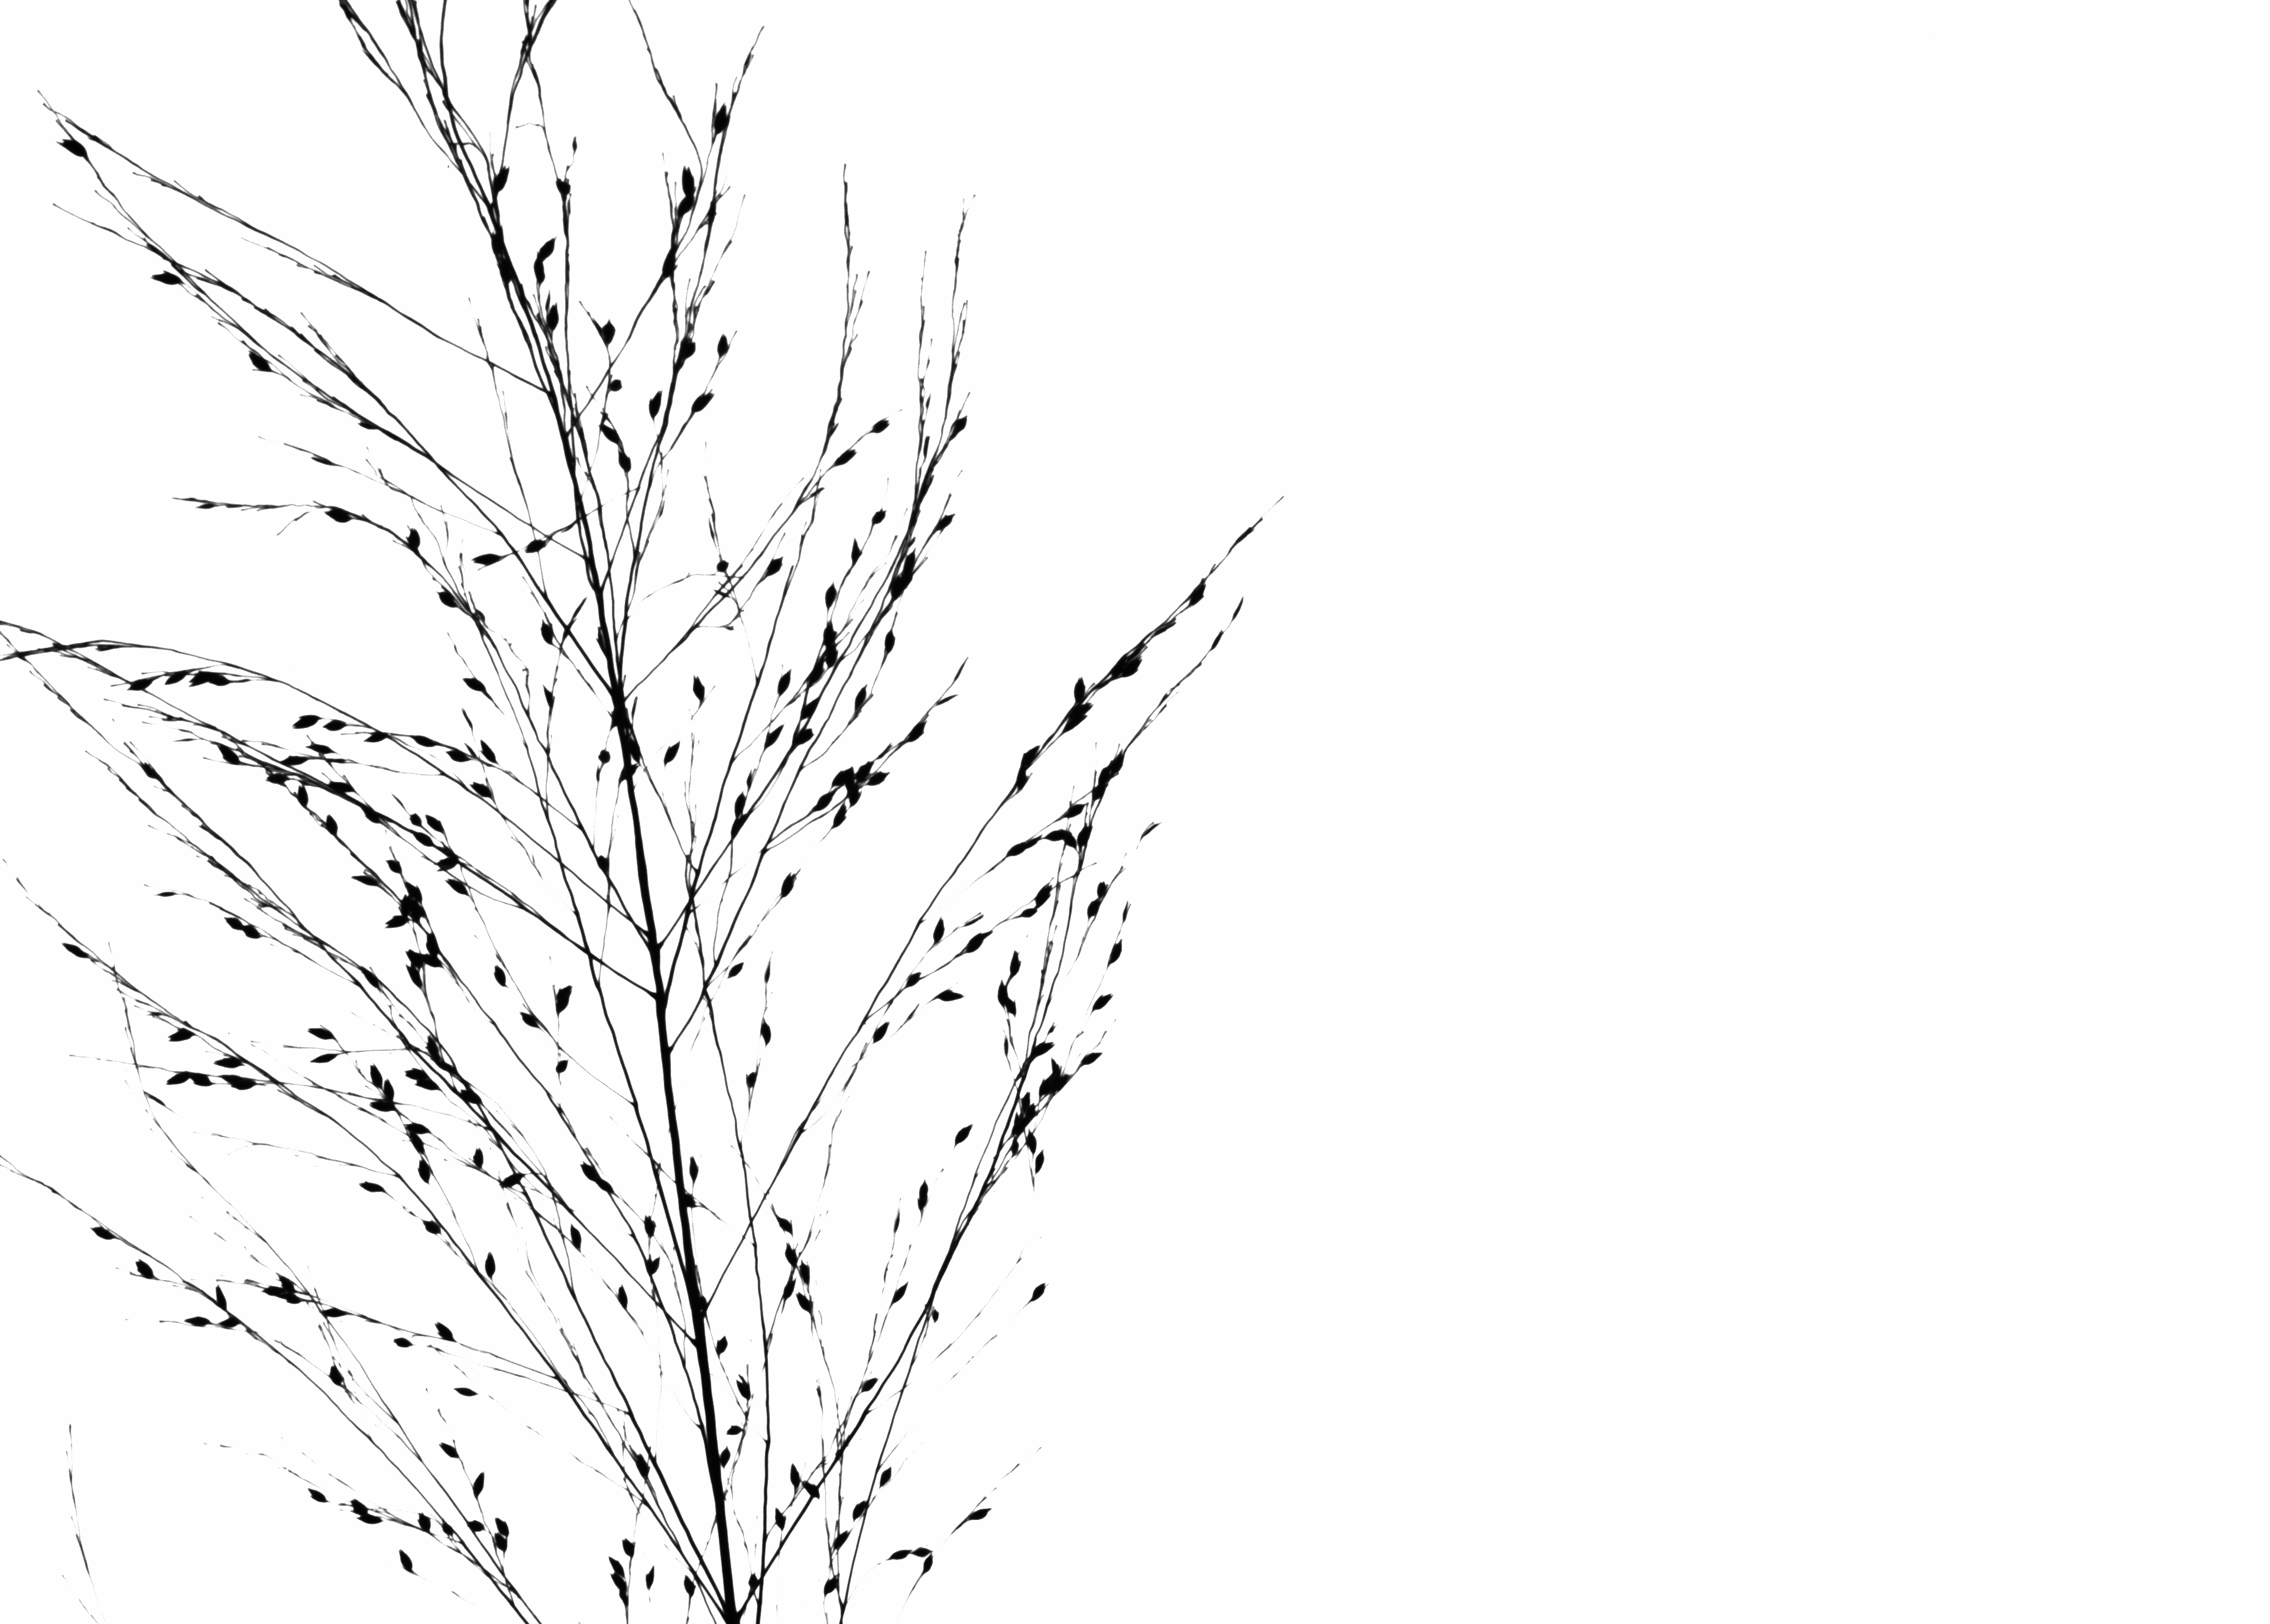seed: (962, 926, 999, 961), (1064, 698, 1094, 736), (218, 1070, 264, 1095), (1025, 1274, 1055, 1311), (550, 981, 577, 1021), (320, 503, 359, 529), (1008, 833, 1046, 859), (215, 738, 246, 770), (1025, 1035, 1057, 1067), (949, 1116, 979, 1149), (1088, 990, 1124, 1018), (244, 346, 276, 376), (55, 135, 90, 162), (390, 1545, 418, 1577), (186, 664, 222, 689), (935, 984, 971, 1009), (679, 162, 700, 202), (408, 947, 445, 970), (710, 100, 733, 137), (633, 1445, 656, 1482), (902, 717, 932, 745), (962, 1501, 993, 1527), (148, 267, 186, 288), (564, 1218, 586, 1257), (730, 808, 753, 844), (1113, 656, 1148, 678), (608, 1568, 631, 1603), (130, 1257, 158, 1285), (603, 1550, 629, 1580), (677, 188, 702, 220), (60, 940, 97, 961), (466, 1468, 491, 1499), (888, 1276, 913, 1308), (288, 708, 322, 731), (86, 1220, 120, 1243), (1110, 745, 1129, 784), (424, 810, 450, 838), (691, 387, 717, 415), (798, 692, 825, 721), (304, 1023, 339, 1044), (1074, 821, 1095, 856), (320, 1299, 355, 1320), (832, 759, 856, 789), (498, 1169, 527, 1193), (848, 1494, 872, 1524), (399, 895, 422, 926), (408, 729, 440, 752), (461, 673, 492, 696), (278, 1269, 301, 1301), (471, 548, 508, 568), (821, 576, 840, 613), (1106, 935, 1125, 972), (786, 1459, 805, 1496), (902, 547, 920, 587), (280, 749, 313, 770), (1189, 576, 1210, 610), (1034, 879, 1055, 912), (434, 589, 461, 615), (812, 787, 839, 814), (359, 801, 383, 830), (443, 875, 471, 900), (359, 963, 383, 991), (433, 1315, 457, 1343), (403, 522, 426, 552), (763, 554, 786, 584), (610, 696, 629, 731), (492, 165, 512, 200), (426, 1032, 445, 1067), (1008, 944, 1027, 979), (262, 1287, 297, 1306), (327, 1353, 345, 1392), (640, 1561, 659, 1596), (484, 1248, 501, 1285), (781, 1237, 798, 1274), (821, 1568, 839, 1605), (853, 682, 872, 715), (355, 1178, 389, 1197), (406, 893, 429, 921), (364, 724, 392, 747), (190, 1069, 218, 1091), (218, 1311, 246, 1334), (164, 668, 193, 689), (805, 661, 826, 691), (415, 1156, 436, 1186), (870, 1016, 891, 1046), (779, 872, 800, 902), (710, 1327, 731, 1357), (932, 912, 949, 947), (325, 777, 357, 796), (324, 808, 343, 840), (547, 297, 563, 336), (367, 1097, 399, 1116), (492, 1529, 512, 1561), (401, 879, 426, 903), (418, 1216, 445, 1239), (774, 1213, 800, 1236), (135, 759, 164, 780), (445, 743, 473, 765), (478, 735, 499, 763), (596, 424, 624, 445), (765, 722, 786, 750), (663, 738, 684, 766), (457, 1084, 485, 1106), (165, 1067, 193, 1088), (406, 1128, 427, 1156), (1078, 1049, 1106, 1070), (740, 1065, 761, 1093), (619, 1531, 640, 1559), (540, 680, 557, 714), (403, 1118, 436, 1135), (760, 954, 777, 988), (684, 1151, 703, 1181), (183, 1309, 213, 1329), (733, 1373, 753, 1403), (779, 1274, 798, 1304), (619, 761, 644, 784), (835, 445, 858, 469), (948, 415, 971, 439), (594, 1176, 619, 1199), (577, 1160, 601, 1183), (724, 958, 747, 982), (436, 1438, 461, 1461), (858, 1373, 883, 1396), (306, 738, 338, 756), (294, 779, 311, 810), (350, 872, 382, 889), (404, 963, 426, 990), (540, 617, 557, 649), (540, 236, 561, 262), (647, 390, 665, 422), (932, 513, 958, 534), (691, 671, 707, 707), (883, 624, 899, 659), (241, 921, 267, 942), (491, 961, 508, 993), (1020, 742, 1041, 768), (1073, 673, 1088, 708), (904, 967, 925, 993), (758, 1016, 775, 1048), (888, 1204, 904, 1239), (802, 1478, 823, 1504), (830, 1526, 851, 1552), (459, 707, 478, 735), (422, 930, 441, 958), (775, 670, 795, 698), (865, 770, 893, 789), (304, 1487, 332, 1506), (308, 1051, 341, 1067), (1032, 1148, 1048, 1181), (308, 453, 338, 471), (626, 735, 644, 765), (714, 332, 731, 362), (830, 801, 848, 831), (953, 654, 971, 684), (1094, 773, 1111, 803), (614, 1281, 631, 1311), (222, 912, 244, 935), (469, 779, 494, 800), (793, 726, 818, 747), (519, 1007, 540, 1032), (128, 675, 155, 694), (366, 1063, 385, 1090), (415, 1508, 434, 1534), (679, 1571, 698, 1598), (888, 1545, 914, 1564), (600, 320, 617, 348), (415, 1077, 443, 1095), (404, 1065, 433, 1083), (169, 1028, 197, 1046), (1050, 1056, 1067, 1084), (772, 1504, 789, 1533), (436, 852, 459, 874), (355, 415, 380, 434), (524, 536, 549, 555), (995, 975, 1008, 1014), (644, 1250, 663, 1274), (211, 1281, 230, 1306), (382, 914, 411, 930), (1015, 763, 1029, 796), (1062, 801, 1088, 819), (1004, 991, 1022, 1018), (823, 620, 837, 652), (733, 789, 747, 821), (215, 1055, 246, 1069), (469, 1144, 485, 1172), (350, 1496, 371, 1517), (357, 1512, 385, 1527), (797, 1290, 812, 1318), (744, 1570, 760, 1598), (879, 1461, 893, 1492), (679, 339, 698, 362), (872, 506, 891, 529), (207, 671, 232, 689), (390, 1334, 415, 1352), (192, 497, 222, 511), (1023, 1128, 1037, 1158), (800, 1257, 814, 1287), (921, 1548, 935, 1578), (826, 645, 842, 671), (642, 1207, 658, 1234), (454, 1383, 480, 1399), (411, 830, 433, 849), (724, 1420, 746, 1439), (1060, 828, 1078, 851), (494, 1513, 512, 1536), (1095, 875, 1110, 903), (266, 772, 290, 787), (617, 450, 633, 475), (867, 418, 891, 434), (1043, 828, 1067, 844), (440, 1519, 455, 1543), (385, 856, 404, 875), (682, 1188, 700, 1209), (155, 888, 181, 902), (464, 1513, 485, 1531), (535, 257, 547, 286), (1020, 1088, 1032, 1118), (719, 1443, 731, 1473), (921, 1178, 932, 1211), (383, 1076, 396, 1104), (1088, 896, 1102, 921), (913, 1545, 937, 1559), (851, 538, 862, 569), (913, 1195, 928, 1216), (930, 1302, 942, 1329), (325, 719, 348, 733), (598, 743, 612, 766), (935, 692, 958, 707), (608, 376, 626, 394), (716, 557, 731, 576), (408, 810, 424, 828), (554, 1058, 570, 1076), (1009, 1135, 1020, 1158), (1020, 907, 1039, 919), (746, 766, 754, 793), (570, 134, 580, 153)
